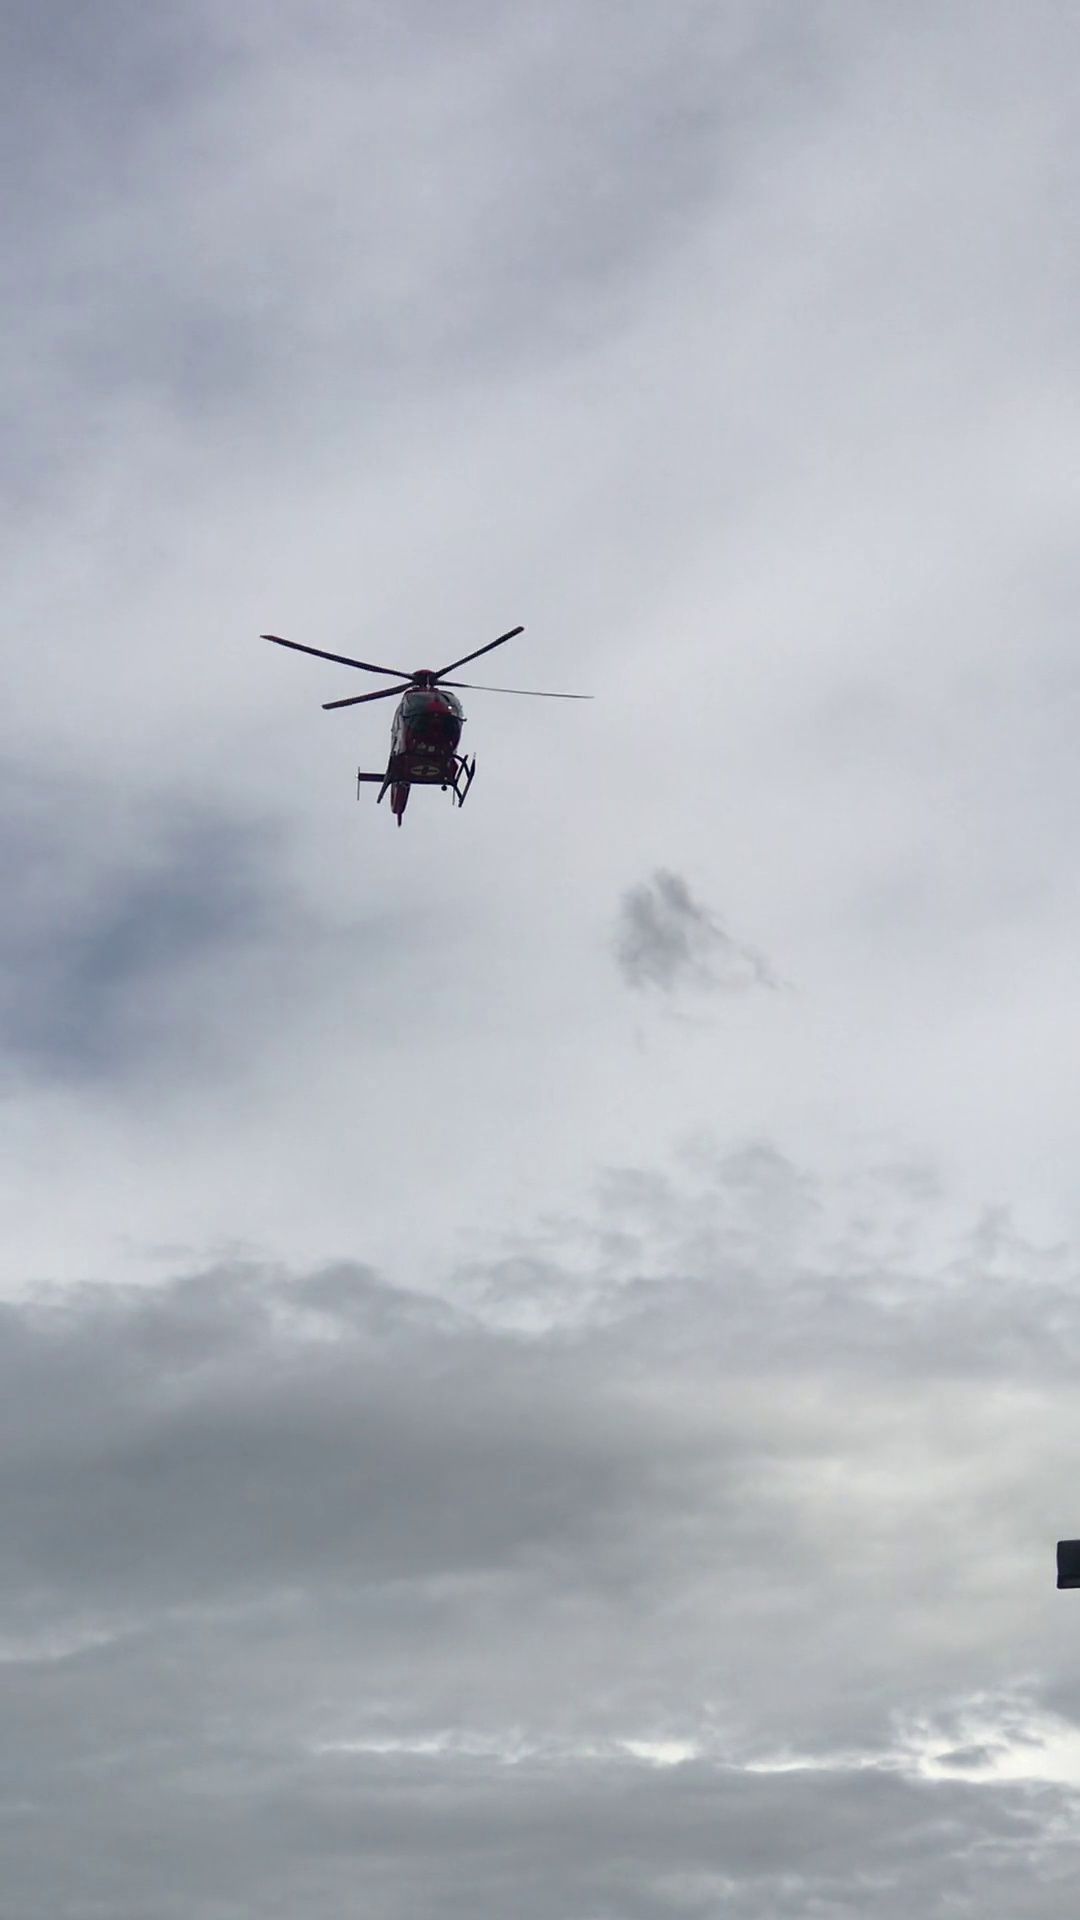heli: (262, 626, 601, 822)
